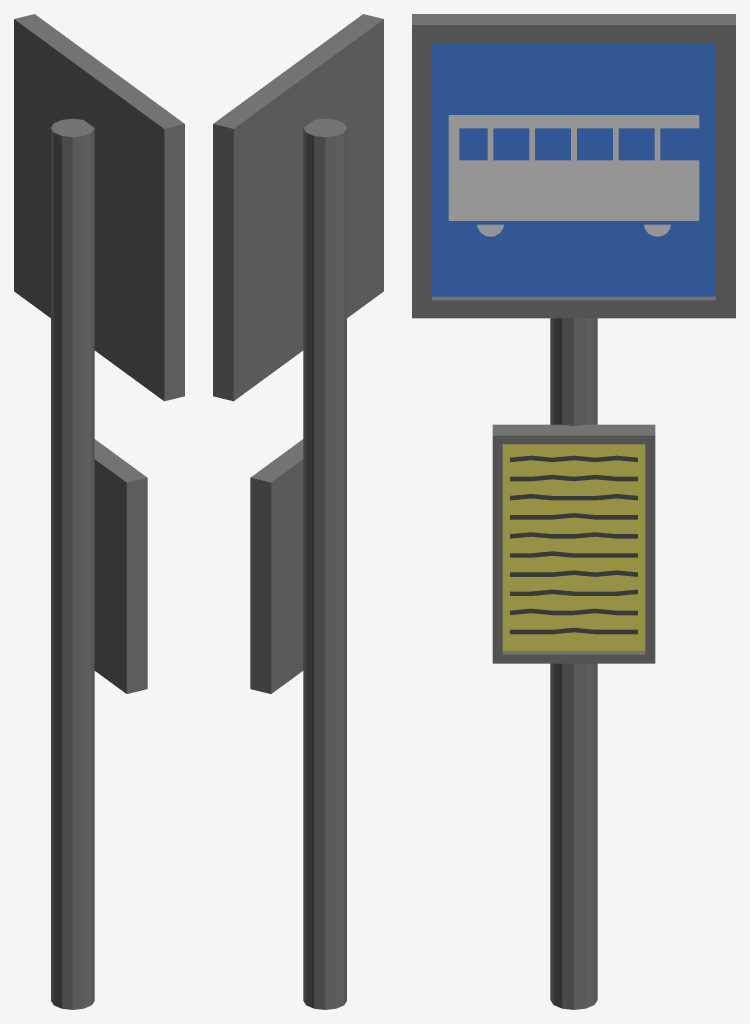
File: przystanek.fbx
3 renders of one model, left to right at view 1: azimuth 30°, elevation 25°; view 2: azimuth 150°, elevation 25°; view 3: azimuth 270°, elevation 25°, orthographic. The views are drawn at different scales.
Visible parts, largest first — view 1: Cylinder.001; view 2: Cylinder.001; view 3: Cylinder.001.
Boxes of the visible parts, left/top/right/bottom form: Cylinder.001: left=14, top=14, right=184, bottom=1009; Cylinder.001: left=213, top=14, right=383, bottom=1009; Cylinder.001: left=412, top=14, right=735, bottom=1009.
Bounding box in the file's own units: 73.28 × 1153 × 340.
